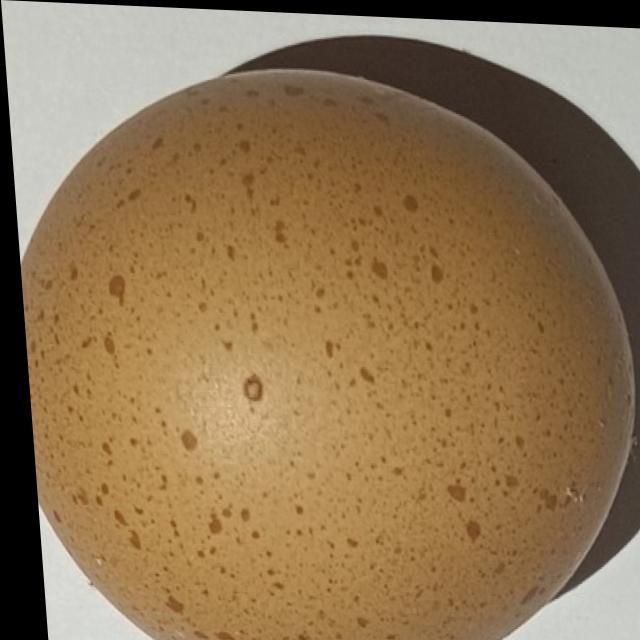unfresh: (4, 62, 636, 640)
